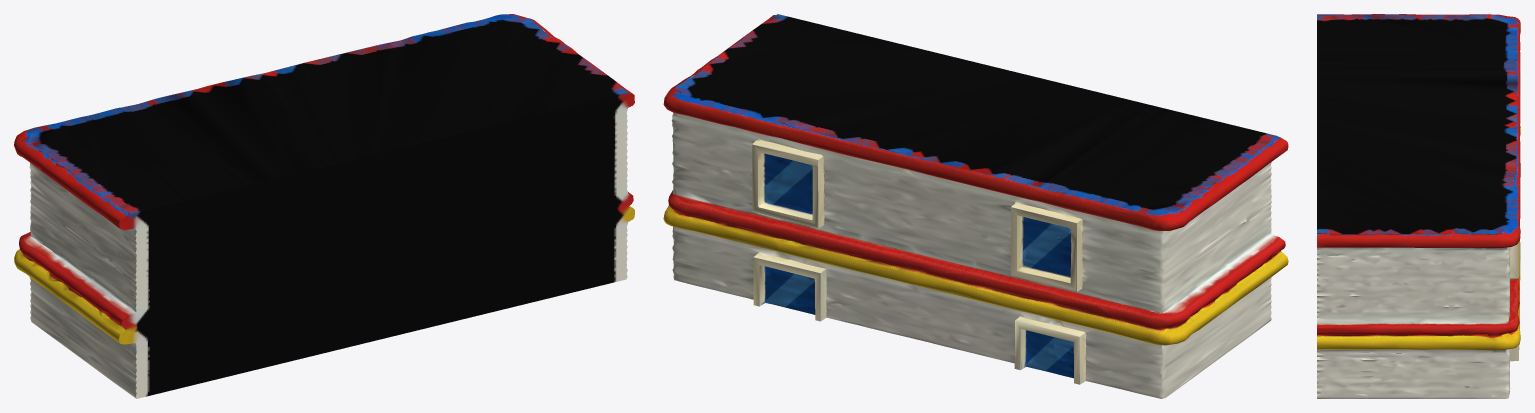
File: 6-upper-walls-back.fbx
The picture shows the model from 3 angles, left to right: view 1: azimuth 30°, elevation 25°; view 2: azimuth 150°, elevation 25°; view 3: azimuth 270°, elevation 25°; orthographic projection. The views are drawn at different scales.
Visible parts, largest first — view 1: upper-walls-back; view 2: upper-walls-back; view 3: upper-walls-back.
Part boxes in pixels (x1,y1,x2,y2): upper-walls-back: (14,14,634,398); upper-walls-back: (663,14,1288,398); upper-walls-back: (1317,14,1520,398).
Size of the model in its own units: 10556 by 3625 by 4022.
1 material, 1 textured.
